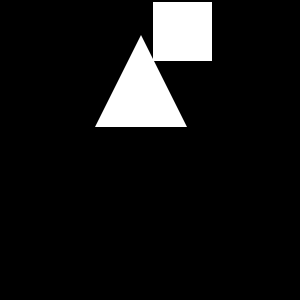circle: (153, 2, 212, 61)
triangle: (95, 35, 187, 127)
